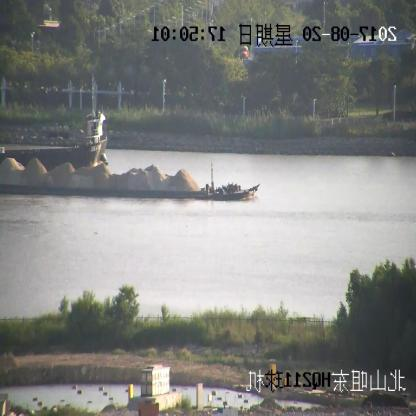Bulk Carrier: (0, 76, 107, 172)
